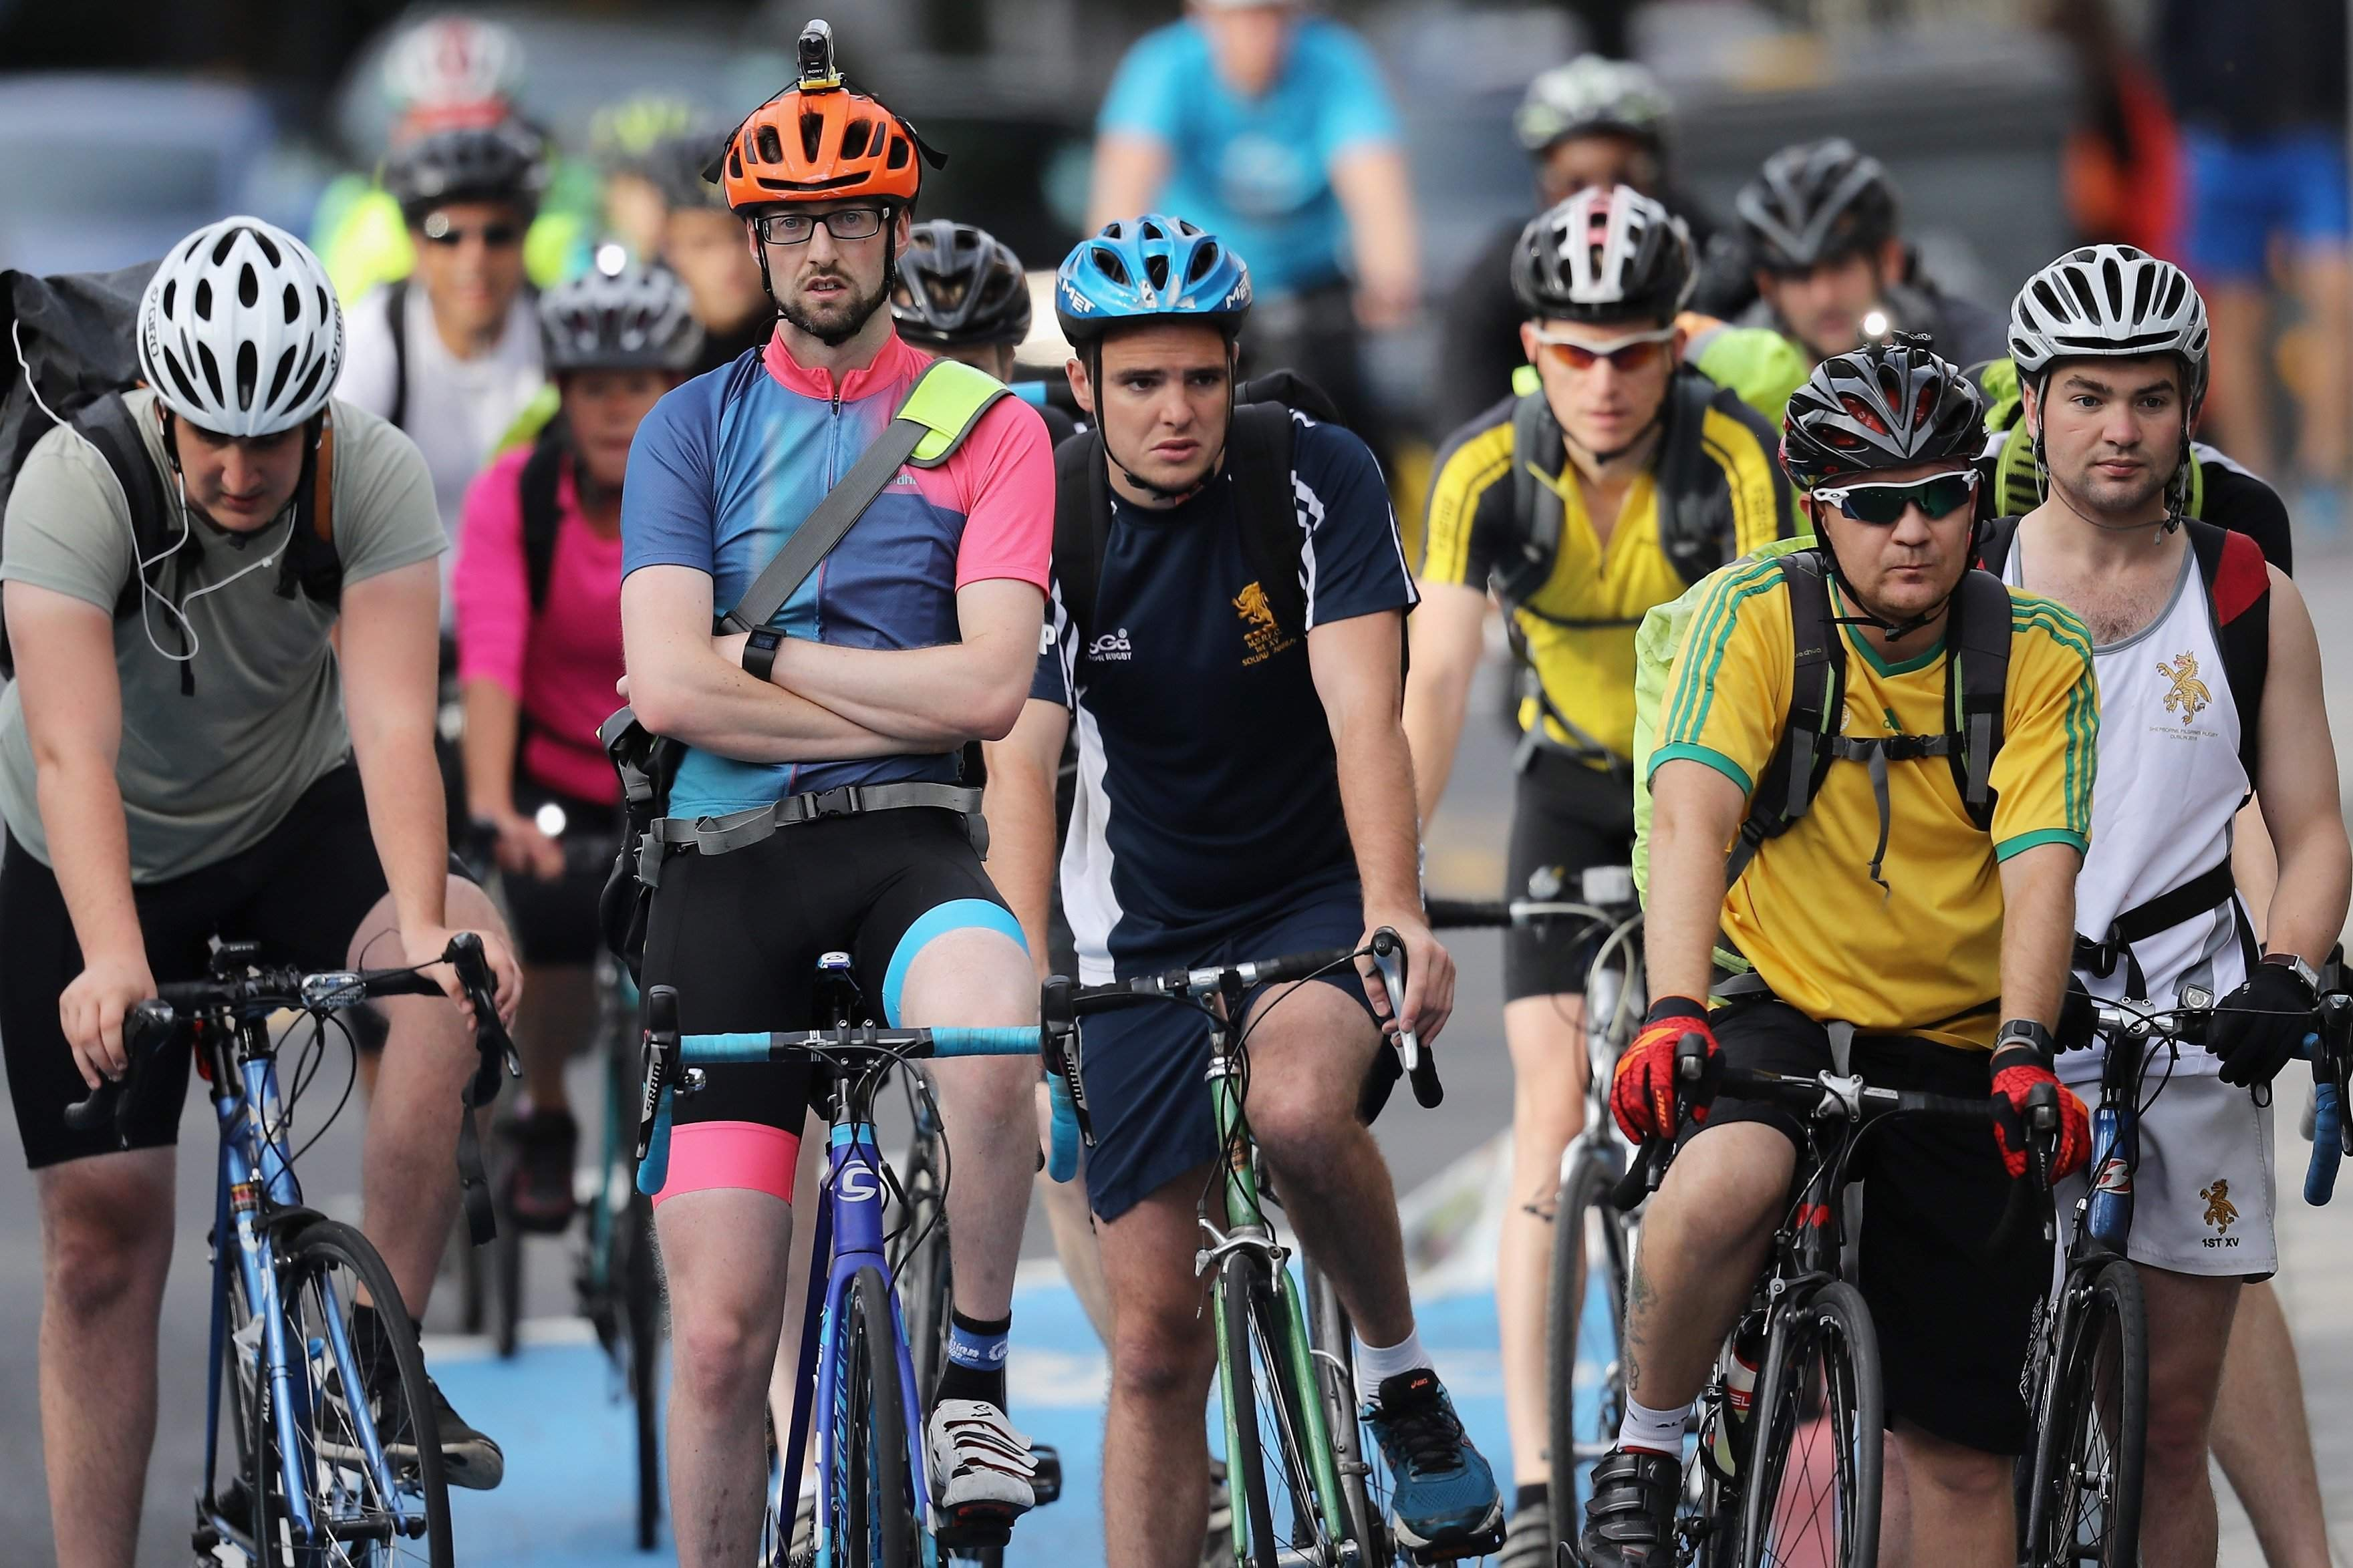commuter: (0, 220, 532, 1568), (609, 96, 1070, 1568), (1031, 212, 1506, 1568), (1602, 339, 2104, 1568), (1404, 187, 1796, 1568), (1998, 242, 2353, 1568)
